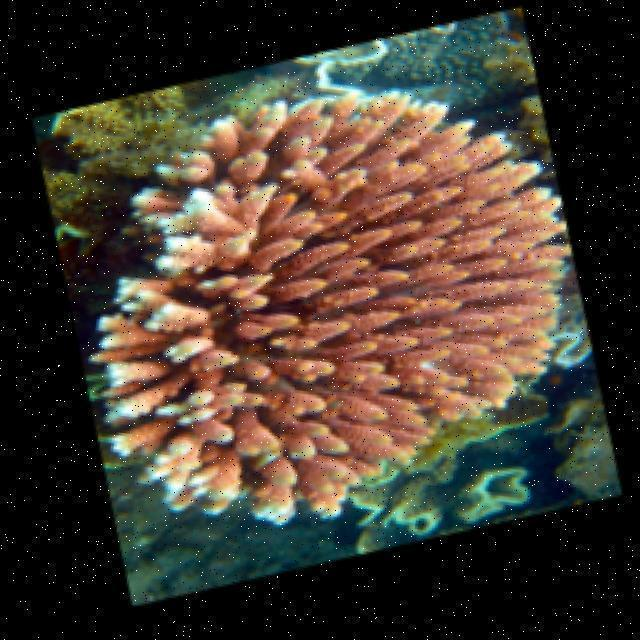Healthy Coral: (111, 123, 547, 480)
